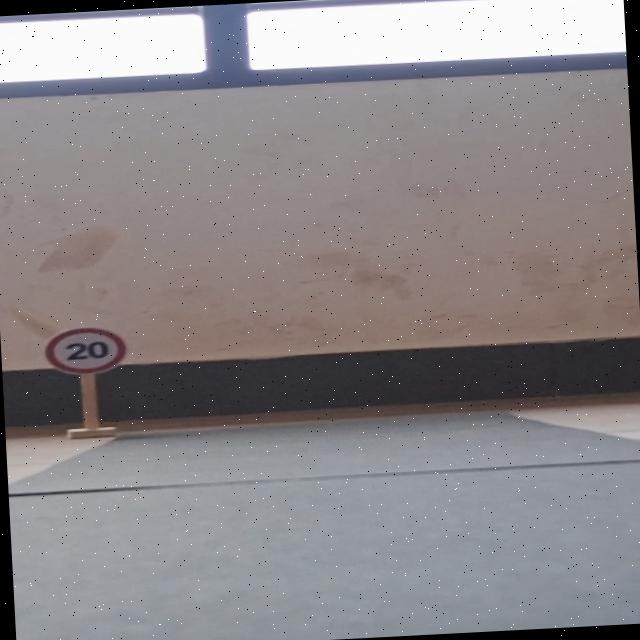Speed20: (36, 322, 135, 379)
